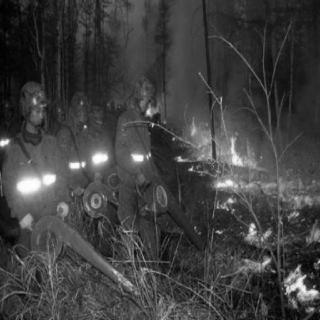Fire: (212, 173, 242, 193)
